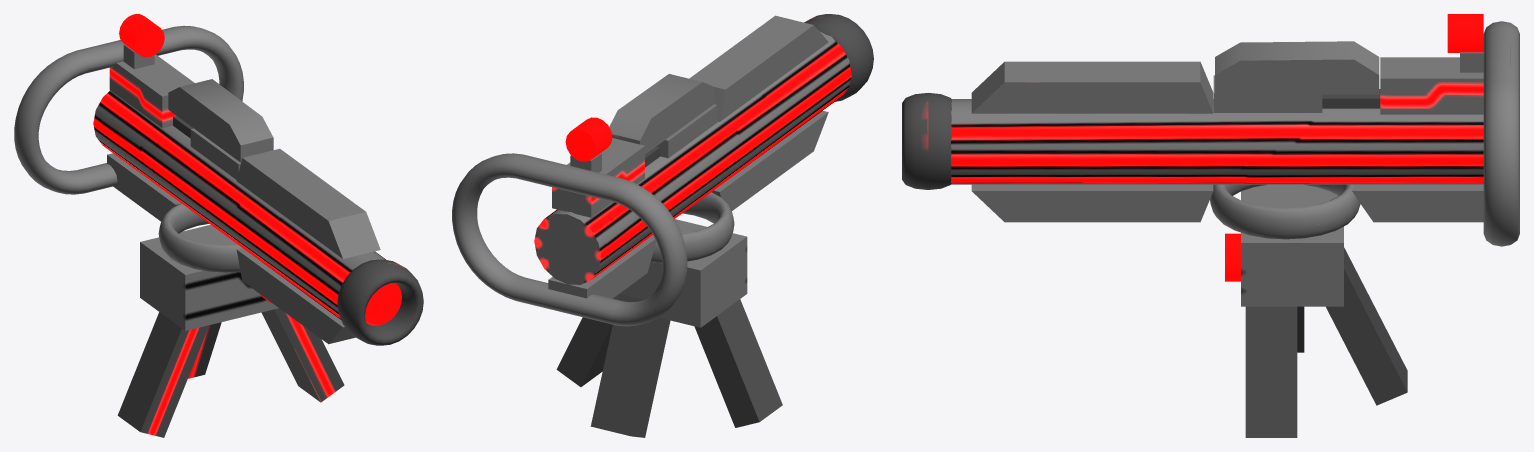
Rendered from Turret.fbx.
The picture shows the model from 3 angles, left to right: view 1: azimuth 30°, elevation 25°; view 2: azimuth 150°, elevation 25°; view 3: azimuth 270°, elevation 25°; orthographic projection. The views are drawn at different scales.
Parts seen in each view (by area): view 1: Barrel001, Handle001, TopBarrel001, Stand, Leg002, TopBarrel005, Muzzle, Leg001, BottomBarrel001, TopBarrel003, BottomPart001, BottomBarrel002 (+4 smaller); view 2: Barrel001, Handle001, Leg003, TopBarrel001, Leg002, Stand, TopBarrel005, BottomBarrel001, TopBarrel003, BottomBarrel002, BottomPart001, Leg001 (+3 smaller); view 3: Barrel001, TopBarrel001, Stand, BottomBarrel001, TopBarrel005, Handle001, Leg001, TopBarrel003, Leg003, BottomPart001, BottomBarrel002, Muzzle (+4 smaller).
Boxes of the visible parts, x1,y1,x2,y2 form: Barrel001: (93, 90, 401, 325); Handle001: (14, 25, 243, 194); TopBarrel001: (236, 148, 380, 258); Stand: (140, 224, 278, 330); Leg002: (117, 312, 209, 437); TopBarrel005: (168, 79, 273, 162); Muzzle: (337, 259, 423, 345); Leg001: (261, 308, 344, 402); BottomBarrel001: (236, 248, 355, 344); TopBarrel003: (109, 54, 194, 128); BottomPart001: (158, 203, 241, 272); BottomBarrel002: (107, 153, 180, 221); Barrel001: (534, 31, 851, 284); Handle001: (452, 153, 687, 326); Leg003: (590, 293, 670, 437); TopBarrel001: (689, 15, 828, 121); Leg002: (694, 299, 782, 427); Stand: (612, 219, 747, 327); TopBarrel005: (609, 74, 713, 154); BottomBarrel001: (712, 111, 828, 210); TopBarrel003: (552, 138, 644, 217); BottomBarrel002: (548, 236, 656, 298); BottomPart001: (650, 192, 734, 263); Leg001: (556, 317, 612, 386); Barrel001: (950, 99, 1483, 184); TopBarrel001: (971, 61, 1213, 113); Stand: (1241, 184, 1343, 306); BottomBarrel001: (971, 184, 1213, 222); TopBarrel005: (1215, 41, 1379, 94); Handle001: (1483, 21, 1519, 246); Leg001: (1245, 306, 1297, 437); TopBarrel003: (1380, 57, 1483, 114); Leg003: (1326, 247, 1407, 405); BottomPart001: (1210, 184, 1360, 239); BottomBarrel002: (1351, 184, 1483, 222); Muzzle: (902, 93, 951, 189).
Bounding box in the file's own units: 17.1 × 24.17 × 35.92.
Materials: 1 (1 with a texture image).
